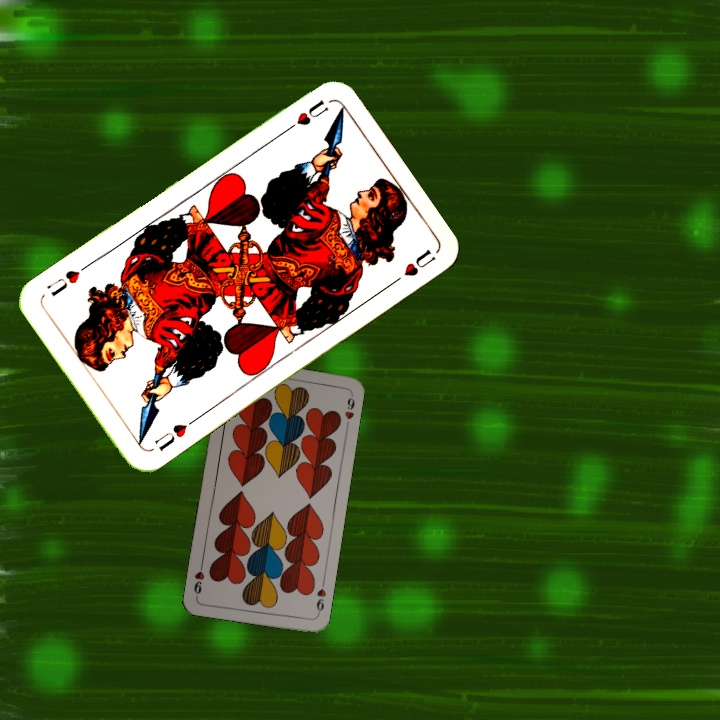H9: (312, 577, 328, 618)
HU: (279, 95, 332, 136), (150, 419, 190, 454)
